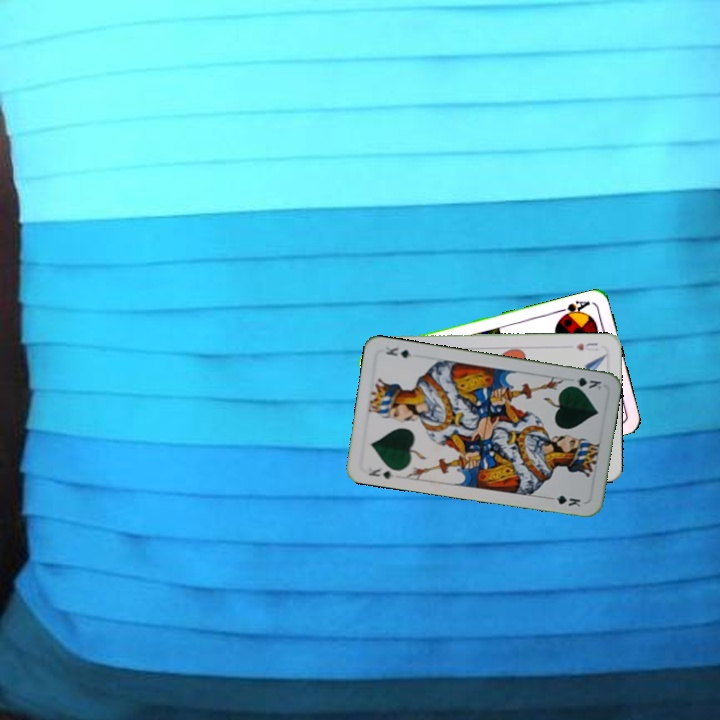GK: (564, 373, 604, 392), (364, 461, 397, 482)
HU: (572, 339, 601, 353)
SA: (554, 297, 593, 321)
